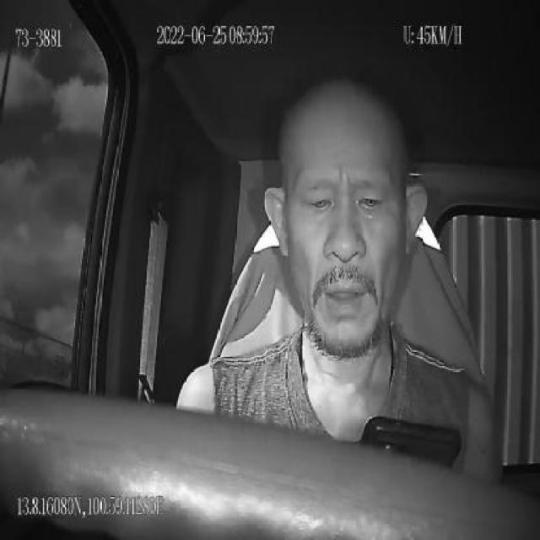phone: (358, 414, 462, 469)
